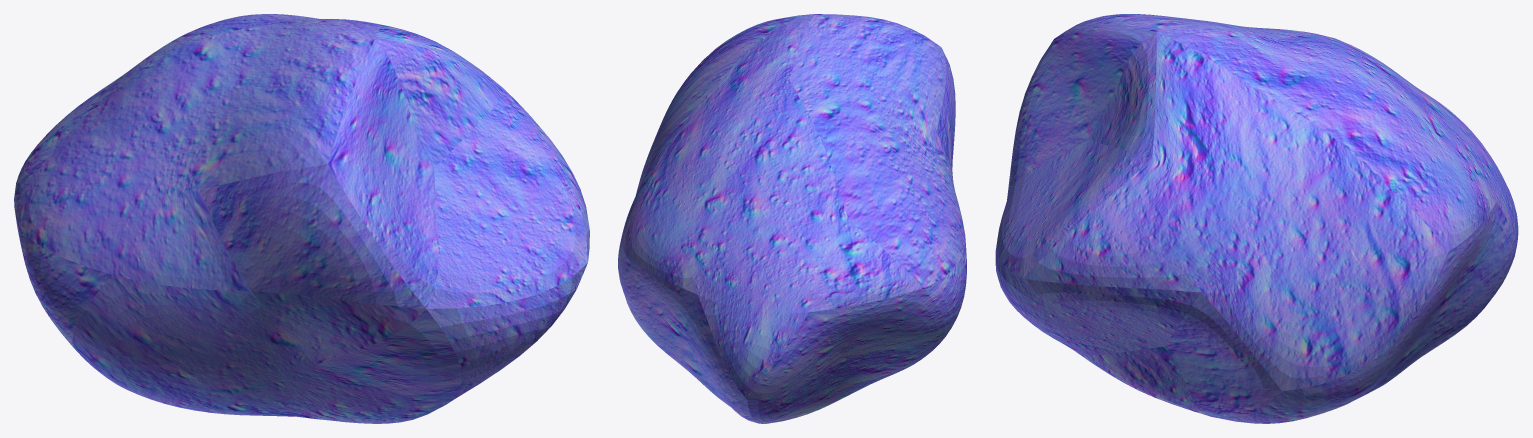
File: smallasteroid0_LOD1.fbx
3 renders of one model, left to right at view 1: azimuth 30°, elevation 25°; view 2: azimuth 150°, elevation 25°; view 3: azimuth 270°, elevation 25°, orthographic. The views are drawn at different scales.
Visible parts, largest first — view 1: Icosphere; view 2: Icosphere; view 3: Icosphere.
Boxes of the visible parts, x1,y1,x2,y2 form: Icosphere: (14,14,589,423); Icosphere: (618,14,966,423); Icosphere: (995,14,1518,423).
Bounding box in the file's own units: 247 × 222 × 286.
